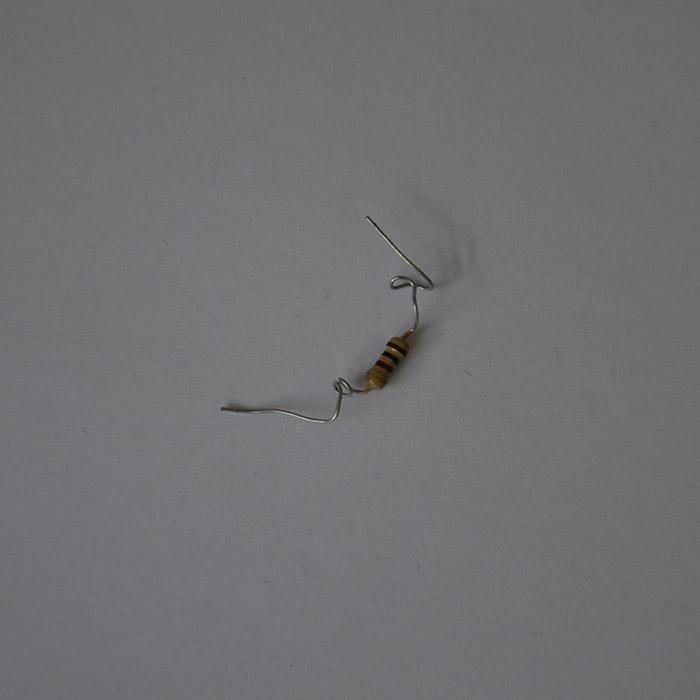resistor: (364, 332, 409, 392)
